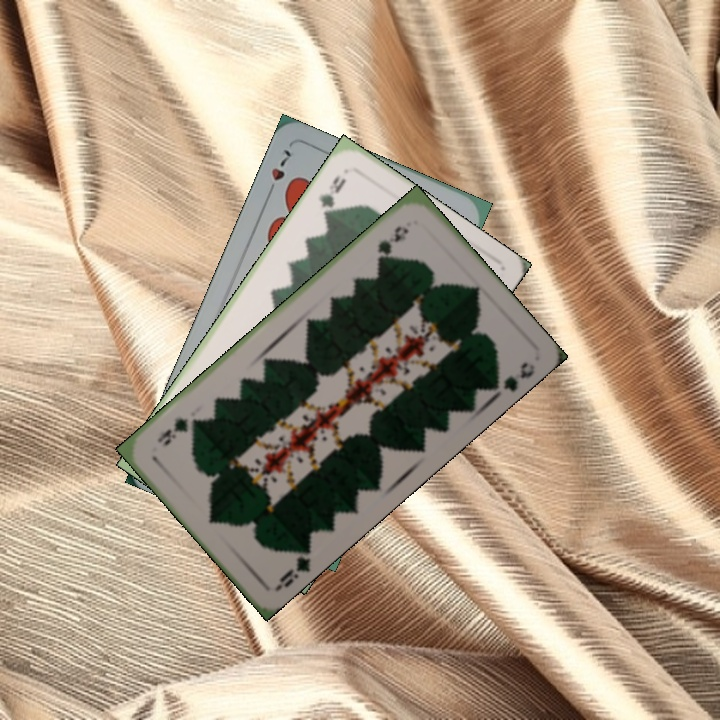G9: (271, 539, 314, 593), (314, 170, 349, 221), (373, 221, 411, 264)
H7: (263, 145, 294, 200)
